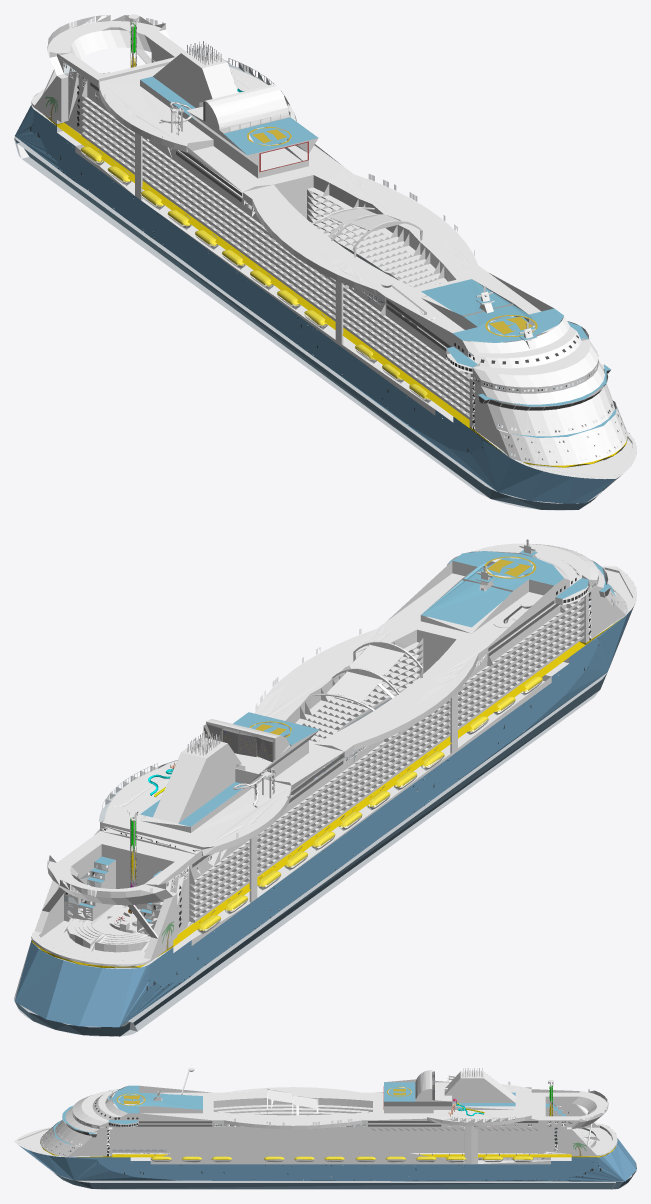
File: ship.glb
3 views of the same model, one above another, from view 1: azimuth 30°, elevation 25°; view 2: azimuth 150°, elevation 25°; view 3: azimuth 270°, elevation 25° (orthographic). The views are drawn at different scales.
Visible parts, largest first — view 1: Material2 (×3), Material3 (×5), Material4; view 2: Material2 (×3), Material3 (×6), Material4; view 3: Material2 (×3), Material3 (×6), Material4.
Part boxes in pixels (left/top/right/bottom): Material2 (×3): left=14, top=14, right=636, bottom=510; Material3 (×5): left=14, top=76, right=616, bottom=509; Material4: left=43, top=114, right=627, bottom=467; Material2 (×3): left=14, top=539, right=636, bottom=1036; Material3 (×6): left=14, top=549, right=631, bottom=1036; Material4: left=31, top=619, right=620, bottom=967; Material2 (×3): left=14, top=1065, right=636, bottom=1189; Material3 (×6): left=19, top=1082, right=636, bottom=1188; Material4: left=40, top=1142, right=616, bottom=1157.
Size of the model in its own units: 2618 by 3177 by 17268.
